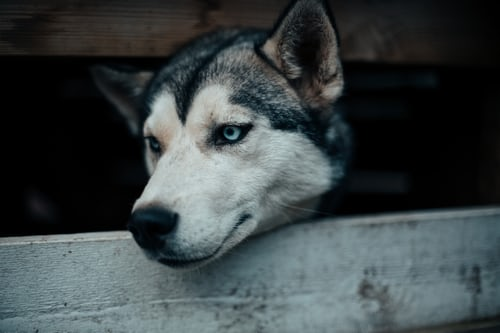husky: (94, 1, 377, 281)
